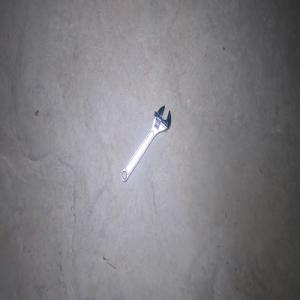Wrench: (120, 105, 171, 182)
